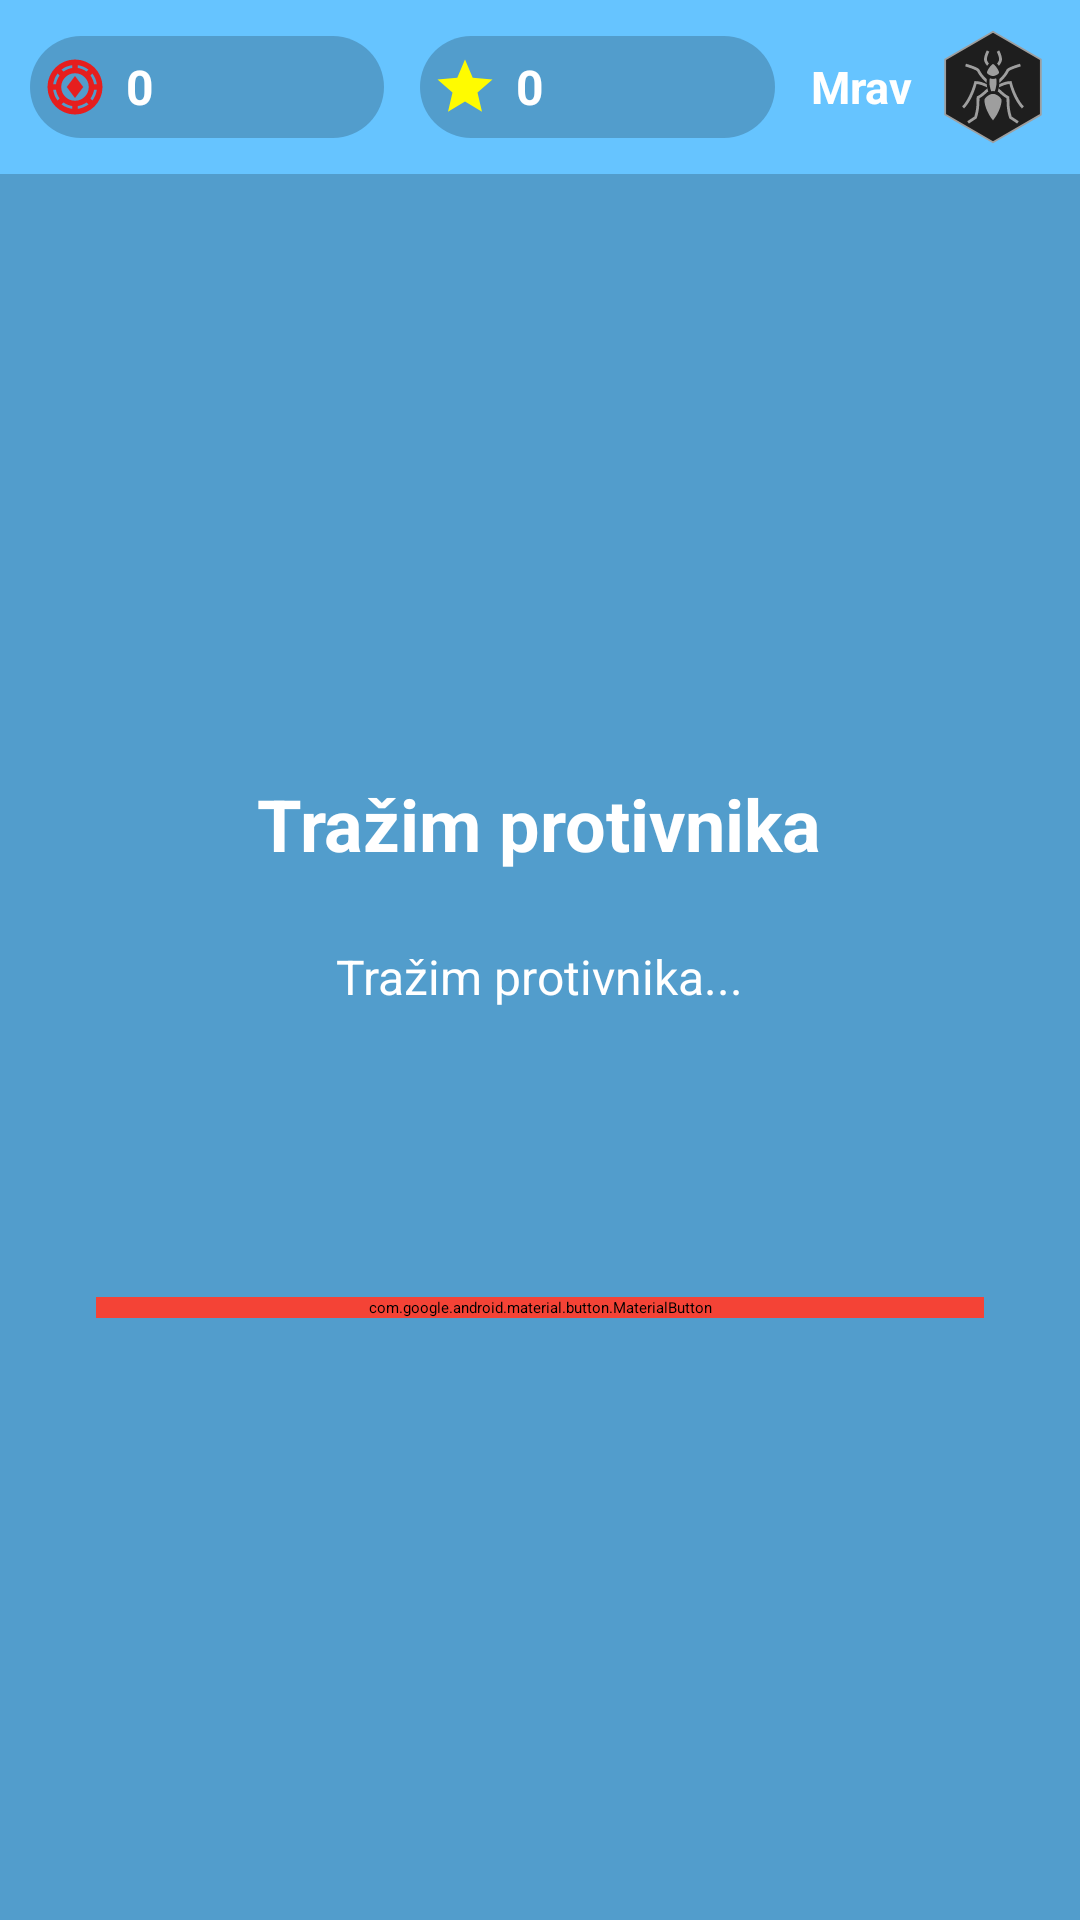

Icon bounding boxes for this 1080 × 1920 phone screenshot, format [x1,y1,x2,y2]:
Tokeni: [47,59,103,115]
Zvezde: [438,60,492,112]
